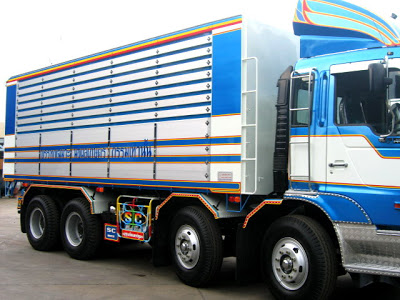truck: (6, 12, 400, 296)
